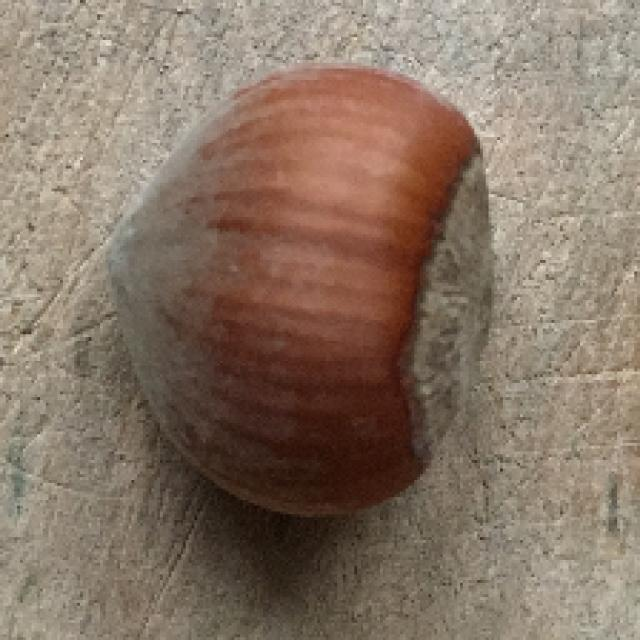qualityHazelnut: (103, 66, 491, 523)
